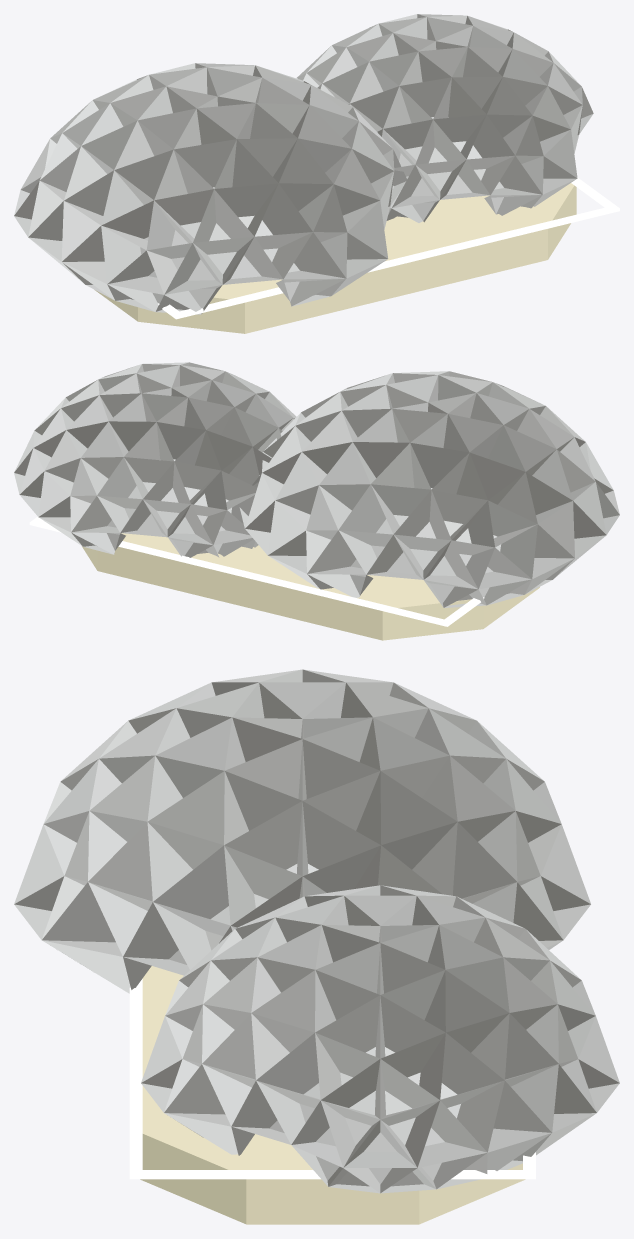
Rendered from esplanade.glb.
3 views of the same model, one above another, from view 1: azimuth 30°, elevation 25°; view 2: azimuth 150°, elevation 25°; view 3: azimuth 270°, elevation 25° (orthographic). The views are drawn at different scales.
Visible parts, largest first — view 1: shell-0, shell-1, base, base-led; view 2: shell-0, shell-1, base, base-led; view 3: shell-0, shell-1, base, base-led.
Part boxes in pixels (x1,y1,x2,y2): shell-0: (14,63,406,314); shell-1: (296,14,593,222); base: (95,183,576,333); base-led: (158,177,619,319); shell-0: (239,371,619,607); shell-1: (14,362,296,557); base: (82,533,539,640); base-led: (29,516,484,626); shell-0: (14,669,590,993); shell-1: (141,885,619,1193); base: (140,966,525,1224); base-led: (129,979,535,1179).
Size of the model in its own units: 216 by 71.28 by 140.
